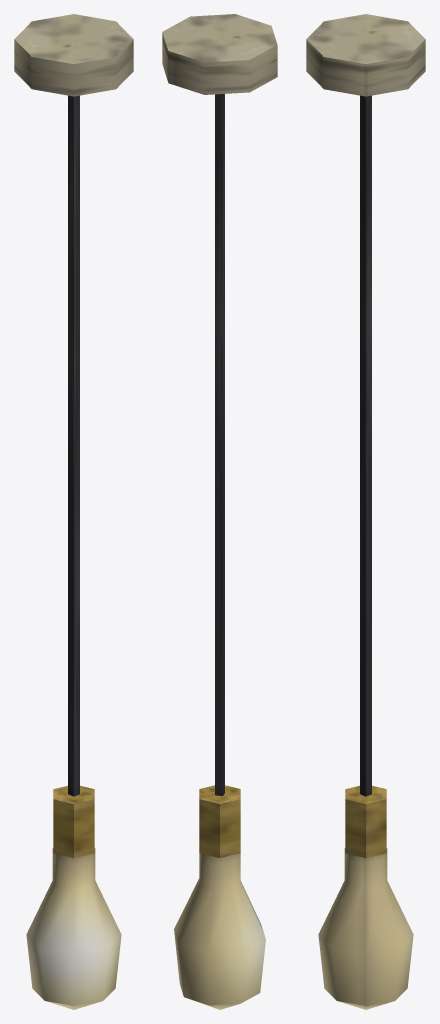
The model's file is bare_bulb.fbx.
The picture shows the model from 3 angles, left to right: view 1: azimuth 90°, elevation 25°; view 2: azimuth 210°, elevation 25°; view 3: azimuth 270°, elevation 25°; orthographic projection.
Parts seen in each view (by area): view 1: bare_bulb_flex, bare_bulb; view 2: bare_bulb_flex, bare_bulb; view 3: bare_bulb_flex, bare_bulb.
Part boxes in pixels (left/top/right/bottom): bare_bulb_flex: left=26, top=95, right=121, bottom=1009; bare_bulb: left=14, top=14, right=133, bottom=96; bare_bulb_flex: left=174, top=94, right=265, bottom=1009; bare_bulb: left=162, top=14, right=277, bottom=94; bare_bulb_flex: left=318, top=95, right=413, bottom=1009; bare_bulb: left=306, top=14, right=425, bottom=96.
Size of the model in its own units: 0.1 by 0.9 by 0.1.
Materials: 1 (1 with a texture image).
